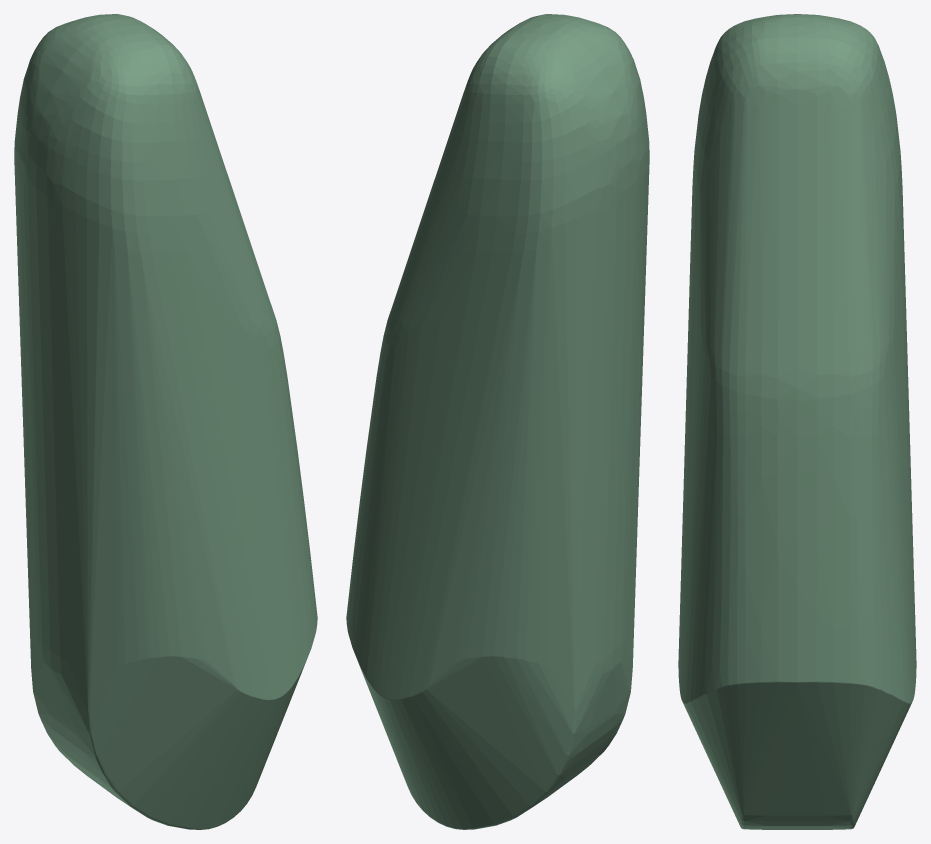
File: right_pinky_intermediate.obj
3 renders of one model, left to right at view 1: azimuth 30°, elevation 25°; view 2: azimuth 150°, elevation 25°; view 3: azimuth 270°, elevation 25°, orthographic. The views are drawn at different scales.
Visible parts, largest first — view 1: geometry_0; view 2: geometry_0; view 3: geometry_0.
Boxes of the visible parts, x1,y1,x2,y2 form: geometry_0: [14, 14, 317, 829]; geometry_0: [346, 14, 649, 829]; geometry_0: [678, 14, 916, 829].
Bounding box in the file's own units: 0.0153 × 0.0452 × 0.0127.
